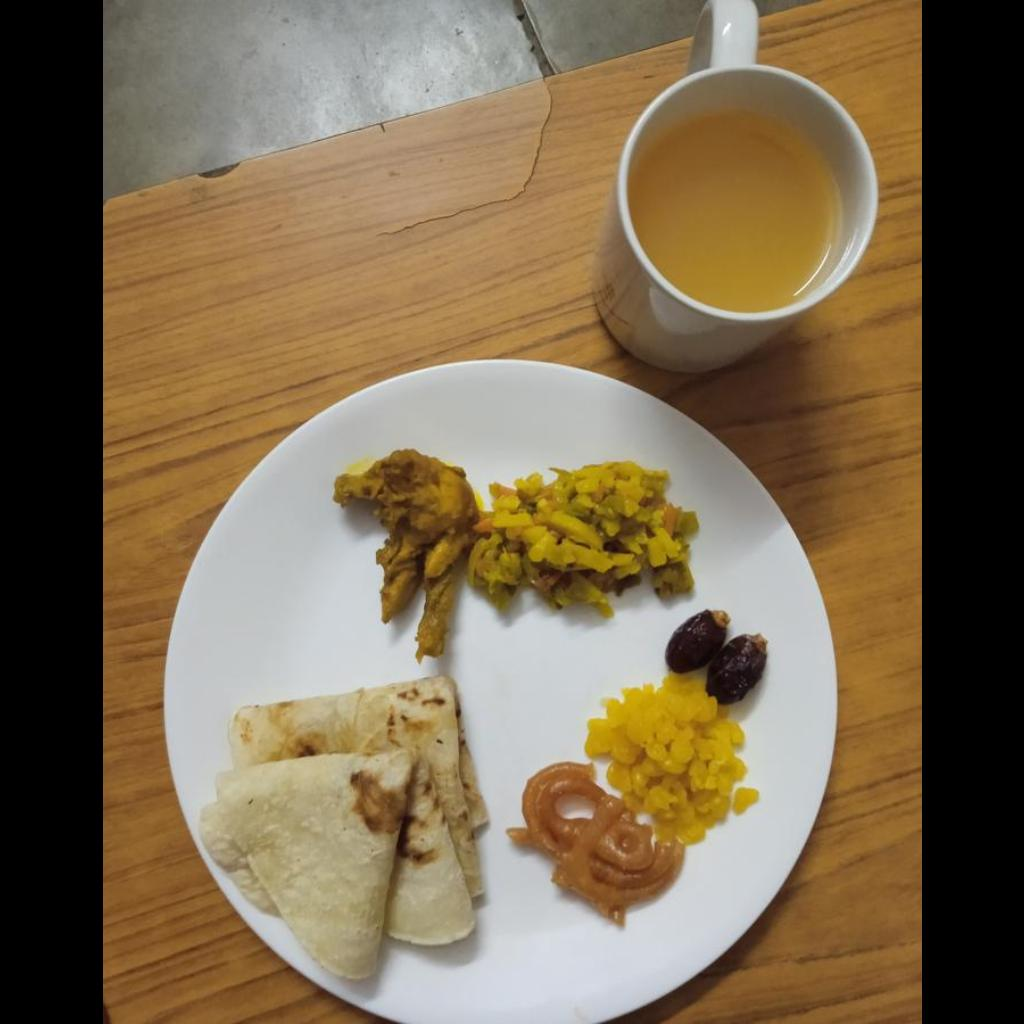burinda: (578, 679, 762, 834)
chicken: (331, 451, 463, 663)
dates: (660, 612, 768, 701)
jilapi: (507, 767, 679, 930)
juice: (632, 109, 833, 304)
ruti: (204, 684, 484, 986)
vaji: (471, 462, 687, 610)
